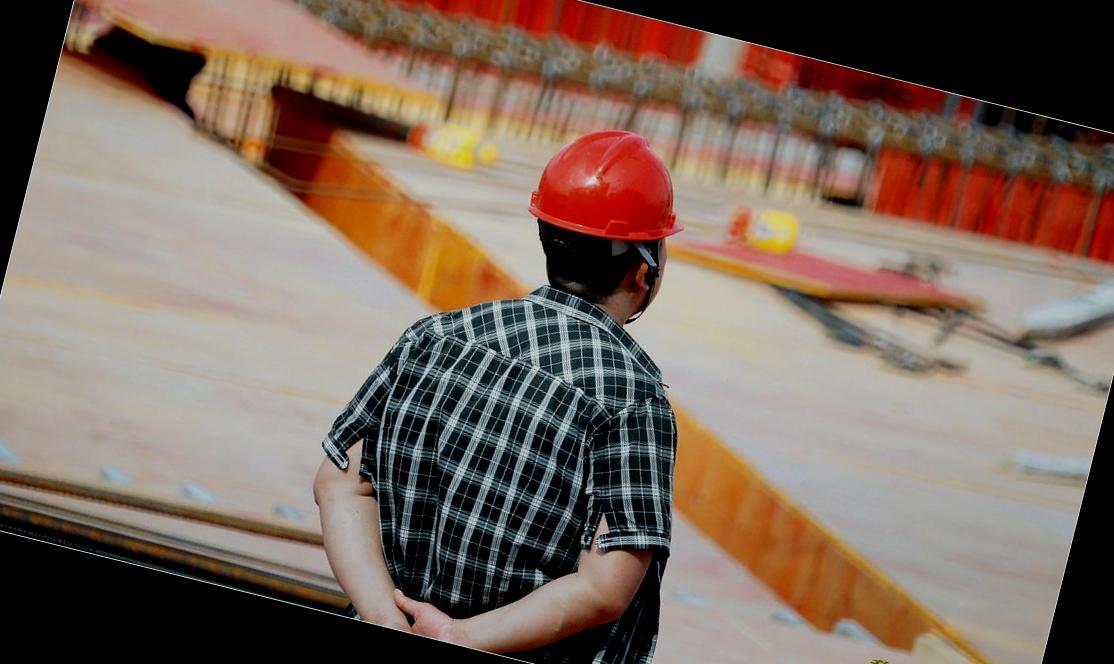helmet: (517, 116, 698, 268)
no_vest: (300, 234, 727, 664)
person: (273, 67, 796, 664)
